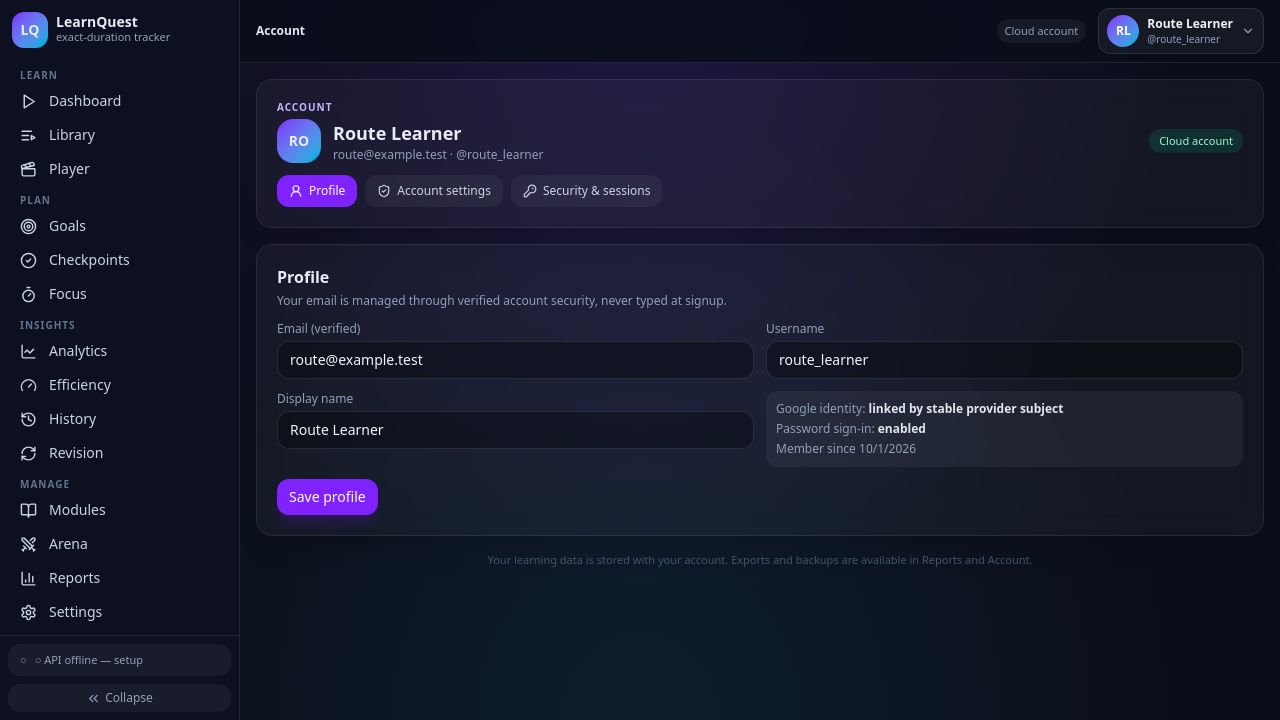
standalone account route › renders Account without the dashboard playlist-creation panel above it
Expected: the heading "Route Learner" is shown, [333,121,462,145]
Expected: the text "Password sign-in: enabled" is shown, [776,420,926,437]
Click the tab "Account settings". click: [434, 191]
box: [365,175,503,207]
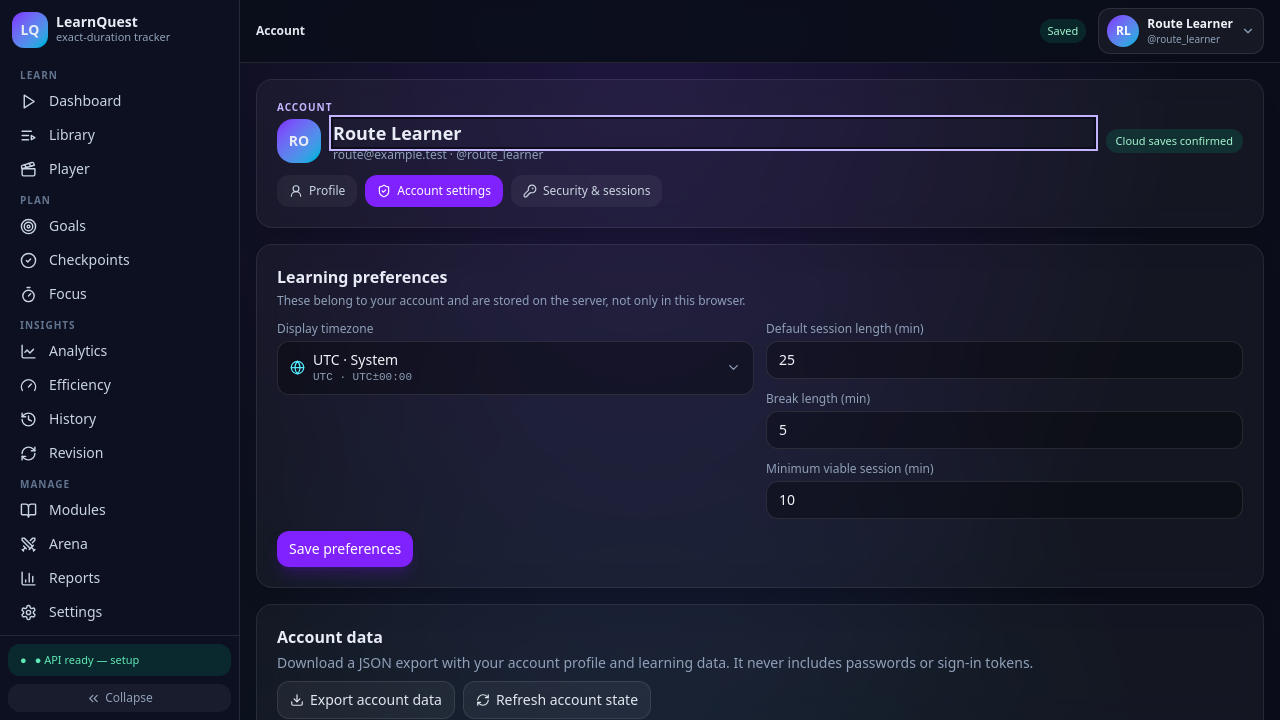
Result: the heading "Learning preferences" is shown at [277,266,447,288]
